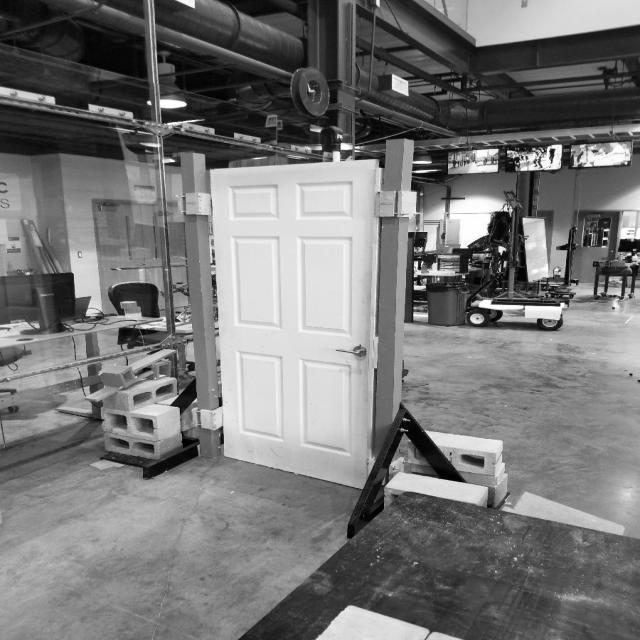door: (207, 158, 380, 500), (336, 343, 370, 362)
